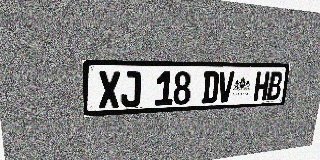1: (155, 72, 174, 106)
8: (173, 72, 192, 105)
B: (267, 72, 283, 100)
D: (201, 72, 219, 104)
H: (253, 72, 270, 101)
J: (121, 71, 141, 108)
V: (217, 72, 235, 103)
X: (98, 71, 120, 109)
